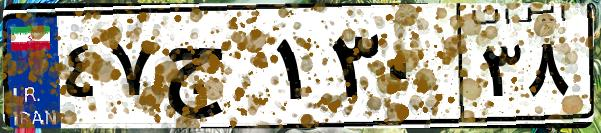0: (385, 28, 445, 110)
1: (270, 28, 330, 110)
3: (330, 28, 385, 110), (475, 38, 525, 113)
4: (57, 26, 110, 100)
7: (110, 28, 158, 98)
8: (525, 38, 570, 115)
ج: (158, 20, 270, 120)
